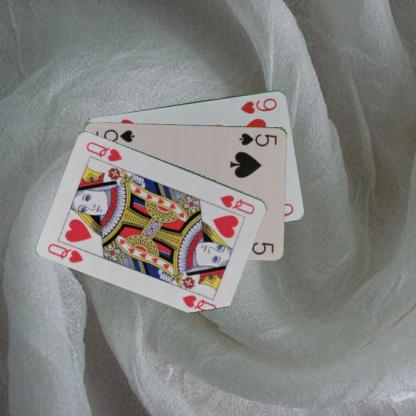5s: (236, 130, 278, 147)
9h: (238, 95, 279, 115)
Qh: (45, 240, 85, 264), (218, 192, 256, 215)
